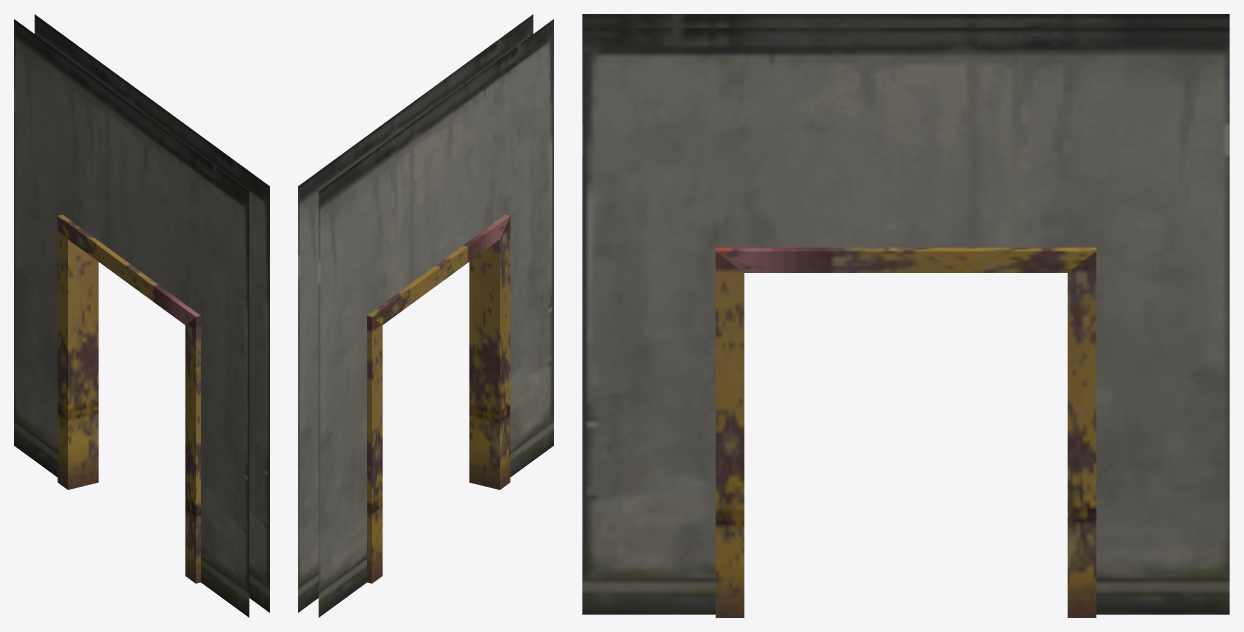
Rendered from SM_WALL_DOOR_01.fbx.
3 renders of one model, left to right at view 1: azimuth 30°, elevation 25°; view 2: azimuth 150°, elevation 25°; view 3: azimuth 270°, elevation 25°, orthographic. The views are drawn at different scales.
Parts seen in each view (by area): view 1: SM_WALL_DOOR_01; view 2: SM_WALL_DOOR_01; view 3: SM_WALL_DOOR_01.
Part boxes in pixels (x1,y1,x2,y2): SM_WALL_DOOR_01: (14, 14, 269, 617); SM_WALL_DOOR_01: (298, 14, 553, 617); SM_WALL_DOOR_01: (582, 14, 1229, 617).
Size of the model in its own units: 0.3 by 4 by 4.
